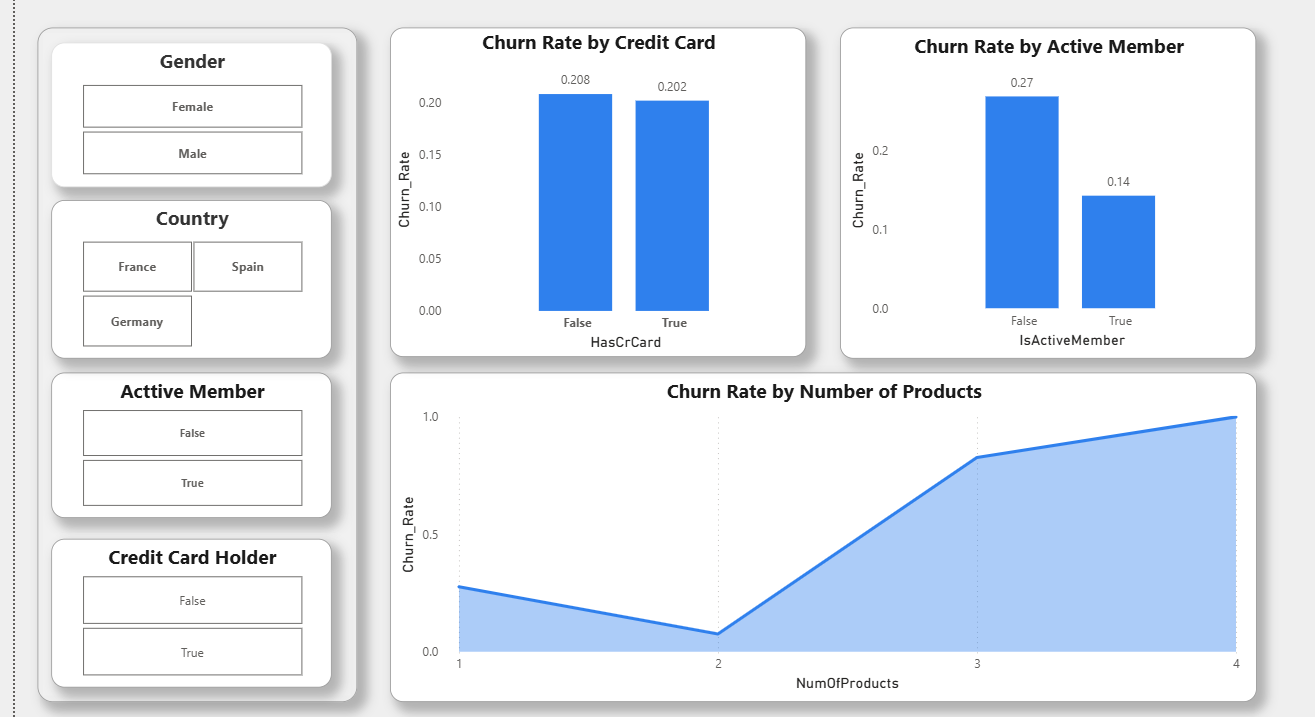

The dashboard page shown, as its layout file describes it:
{"tool":"powerbi","page":{"name":"Engagement & Product Behaviour","canvas":[1280,720],"ordinal":4},"visuals":[{"type":"columnChart","title":"Churn Rate by Active Member","fields":{"Category":["Churn_Modelling.IsActiveMember"],"Y":["Churn_Modelling.Churn_Rate"]},"box":[806.9,37,407.5,323.8],"z":0},{"type":"areaChart","title":"Churn Rate by Number of Products","fields":{"Category":["Churn_Modelling.NumOfProducts"],"Y":["Churn_Modelling.Churn_Rate"]},"box":[366.4,374.6,848,322.5],"z":1000},{"type":"shape","box":[22,37,312.9,660],"z":1500},{"type":"columnChart","title":"Churn Rate by Credit Card","fields":{"Category":["Churn_Modelling.HasCrCard"],"Y":["Churn_Modelling.Churn_Rate"]},"box":[366.4,37,407.5,322.5],"z":2000},{"type":"slicer","title":"Acttive Member","fields":{"Values":["Churn_Modelling.IsActiveMember"]},"box":[35.7,374.6,274.4,142.7],"z":6500},{"type":"slicer","title":"Credit Card Holder","fields":{"Values":["Churn_Modelling.HasCrCard"]},"box":[35.7,536.5,274.4,145.5],"z":7000},{"type":"slicer","title":"Gender","fields":{"Values":["Churn_Modelling.Gender"]},"box":[35.7,50.8,274.4,141.3],"z":7500},{"type":"slicer","title":"Country","fields":{"Values":["Churn_Modelling.Geography"]},"box":[35.7,205.8,274.4,155.1],"z":8000}]}

Visuals, with their boxes in screenshot pixels (x1, y1, x2, y2):
"Churn Rate by Active Member" columnChart: 837 27 1251 356
"Churn Rate by Number of Products" areaChart: 390 370 1251 698
shape: 39 27 357 698
"Churn Rate by Credit Card" columnChart: 390 27 804 355
"Acttive Member" slicer: 53 370 332 515
"Credit Card Holder" slicer: 53 535 332 683
"Gender" slicer: 53 41 332 185
"Country" slicer: 53 199 332 357
